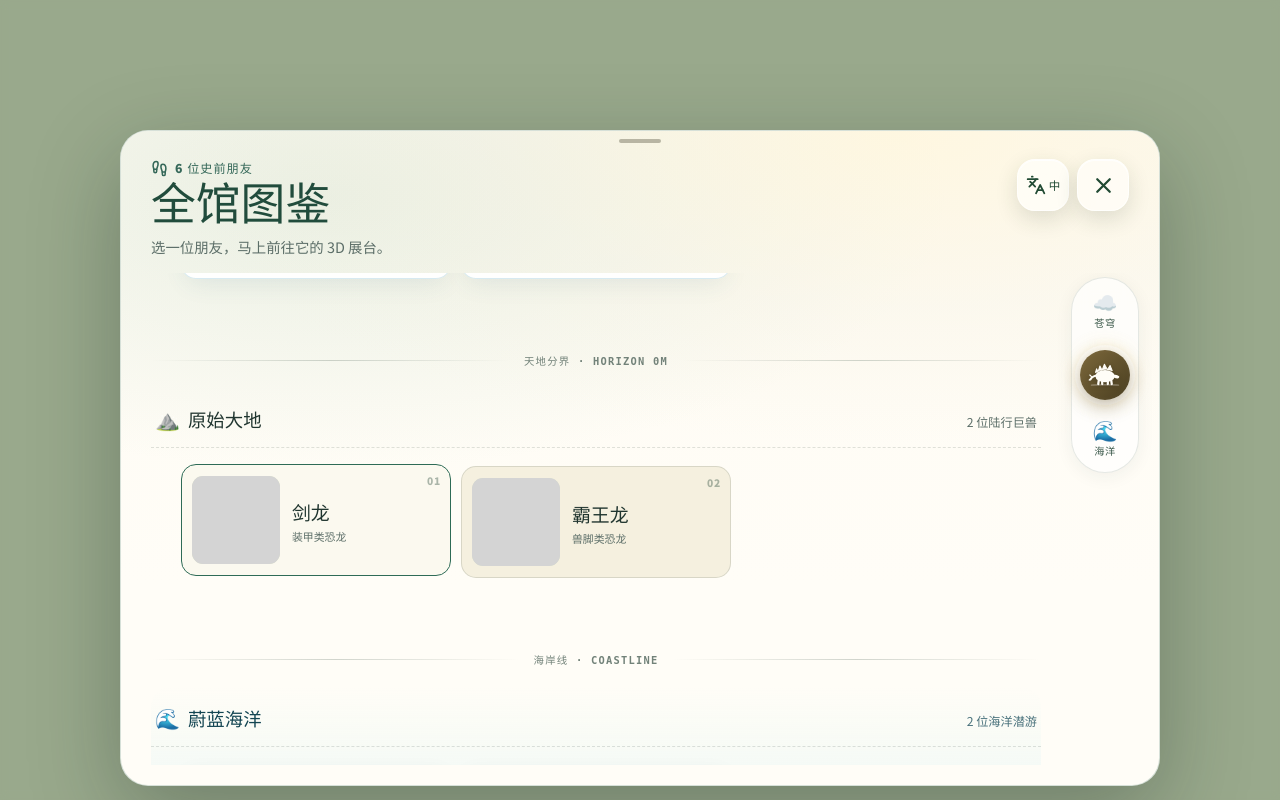
Test: AnimalCollectionSheet › switches living creature beacon when clicking habitat totem nodes
This screenshot has width=1280, height=800.
(page scrolled)
Expected: the element named "当前生境：大地剑龙" is shown, [1080,350,1130,400]
# Click Sea waypoint
Click the button "🌊 海洋": coordinates (1105, 439) [1080,414,1130,464]
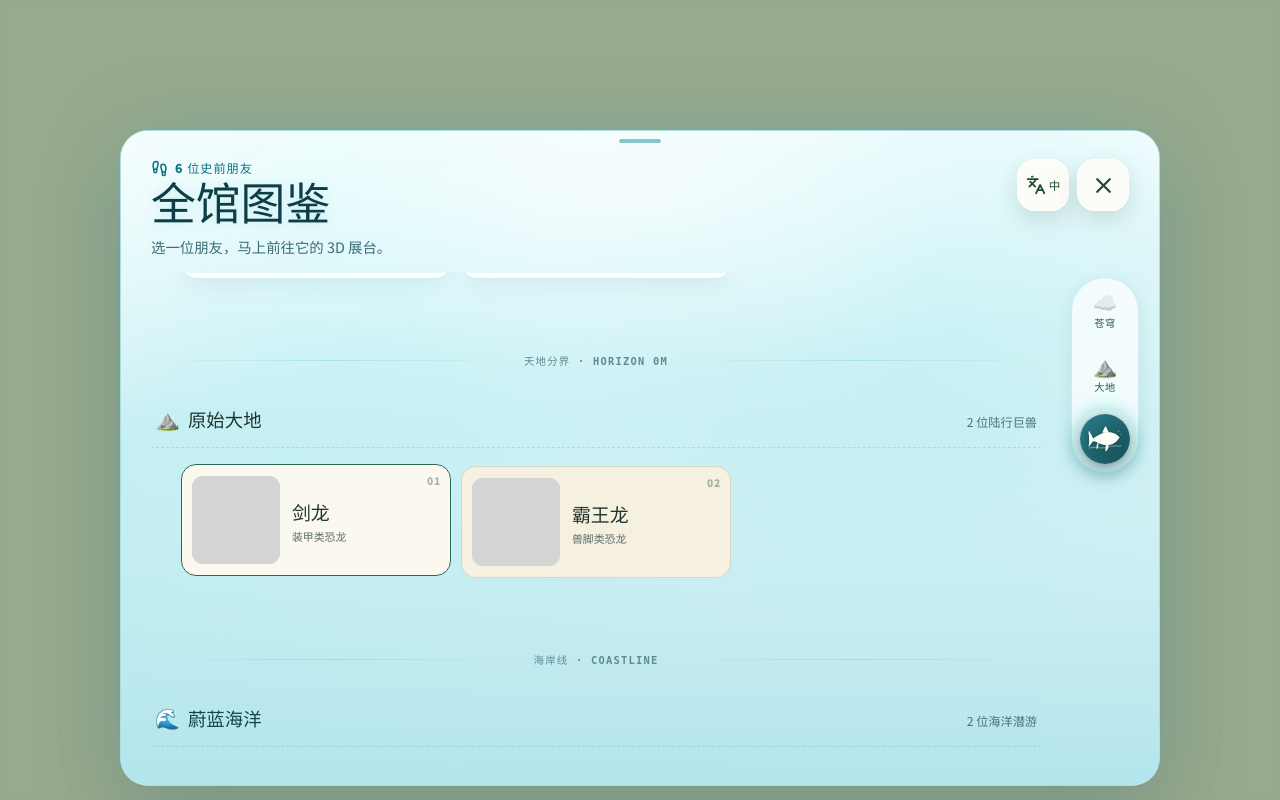
Expected: the element named "当前生境：海洋游鱼" is shown, [1080,414,1130,464]
